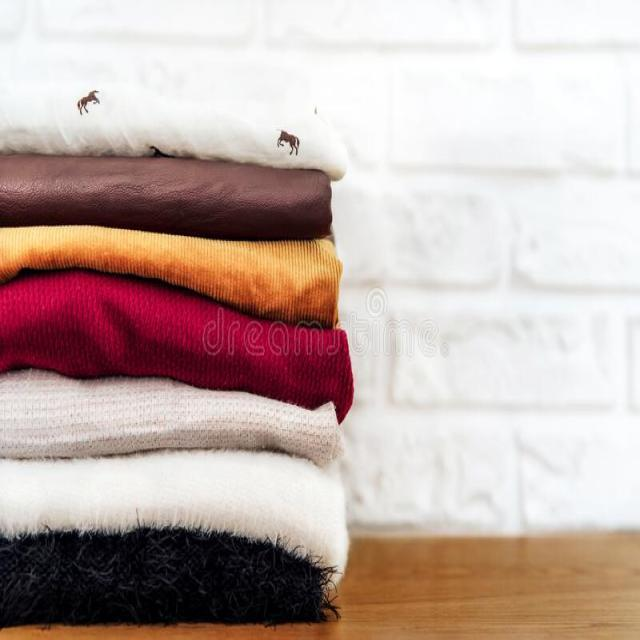clothes: (1, 66, 345, 640)
